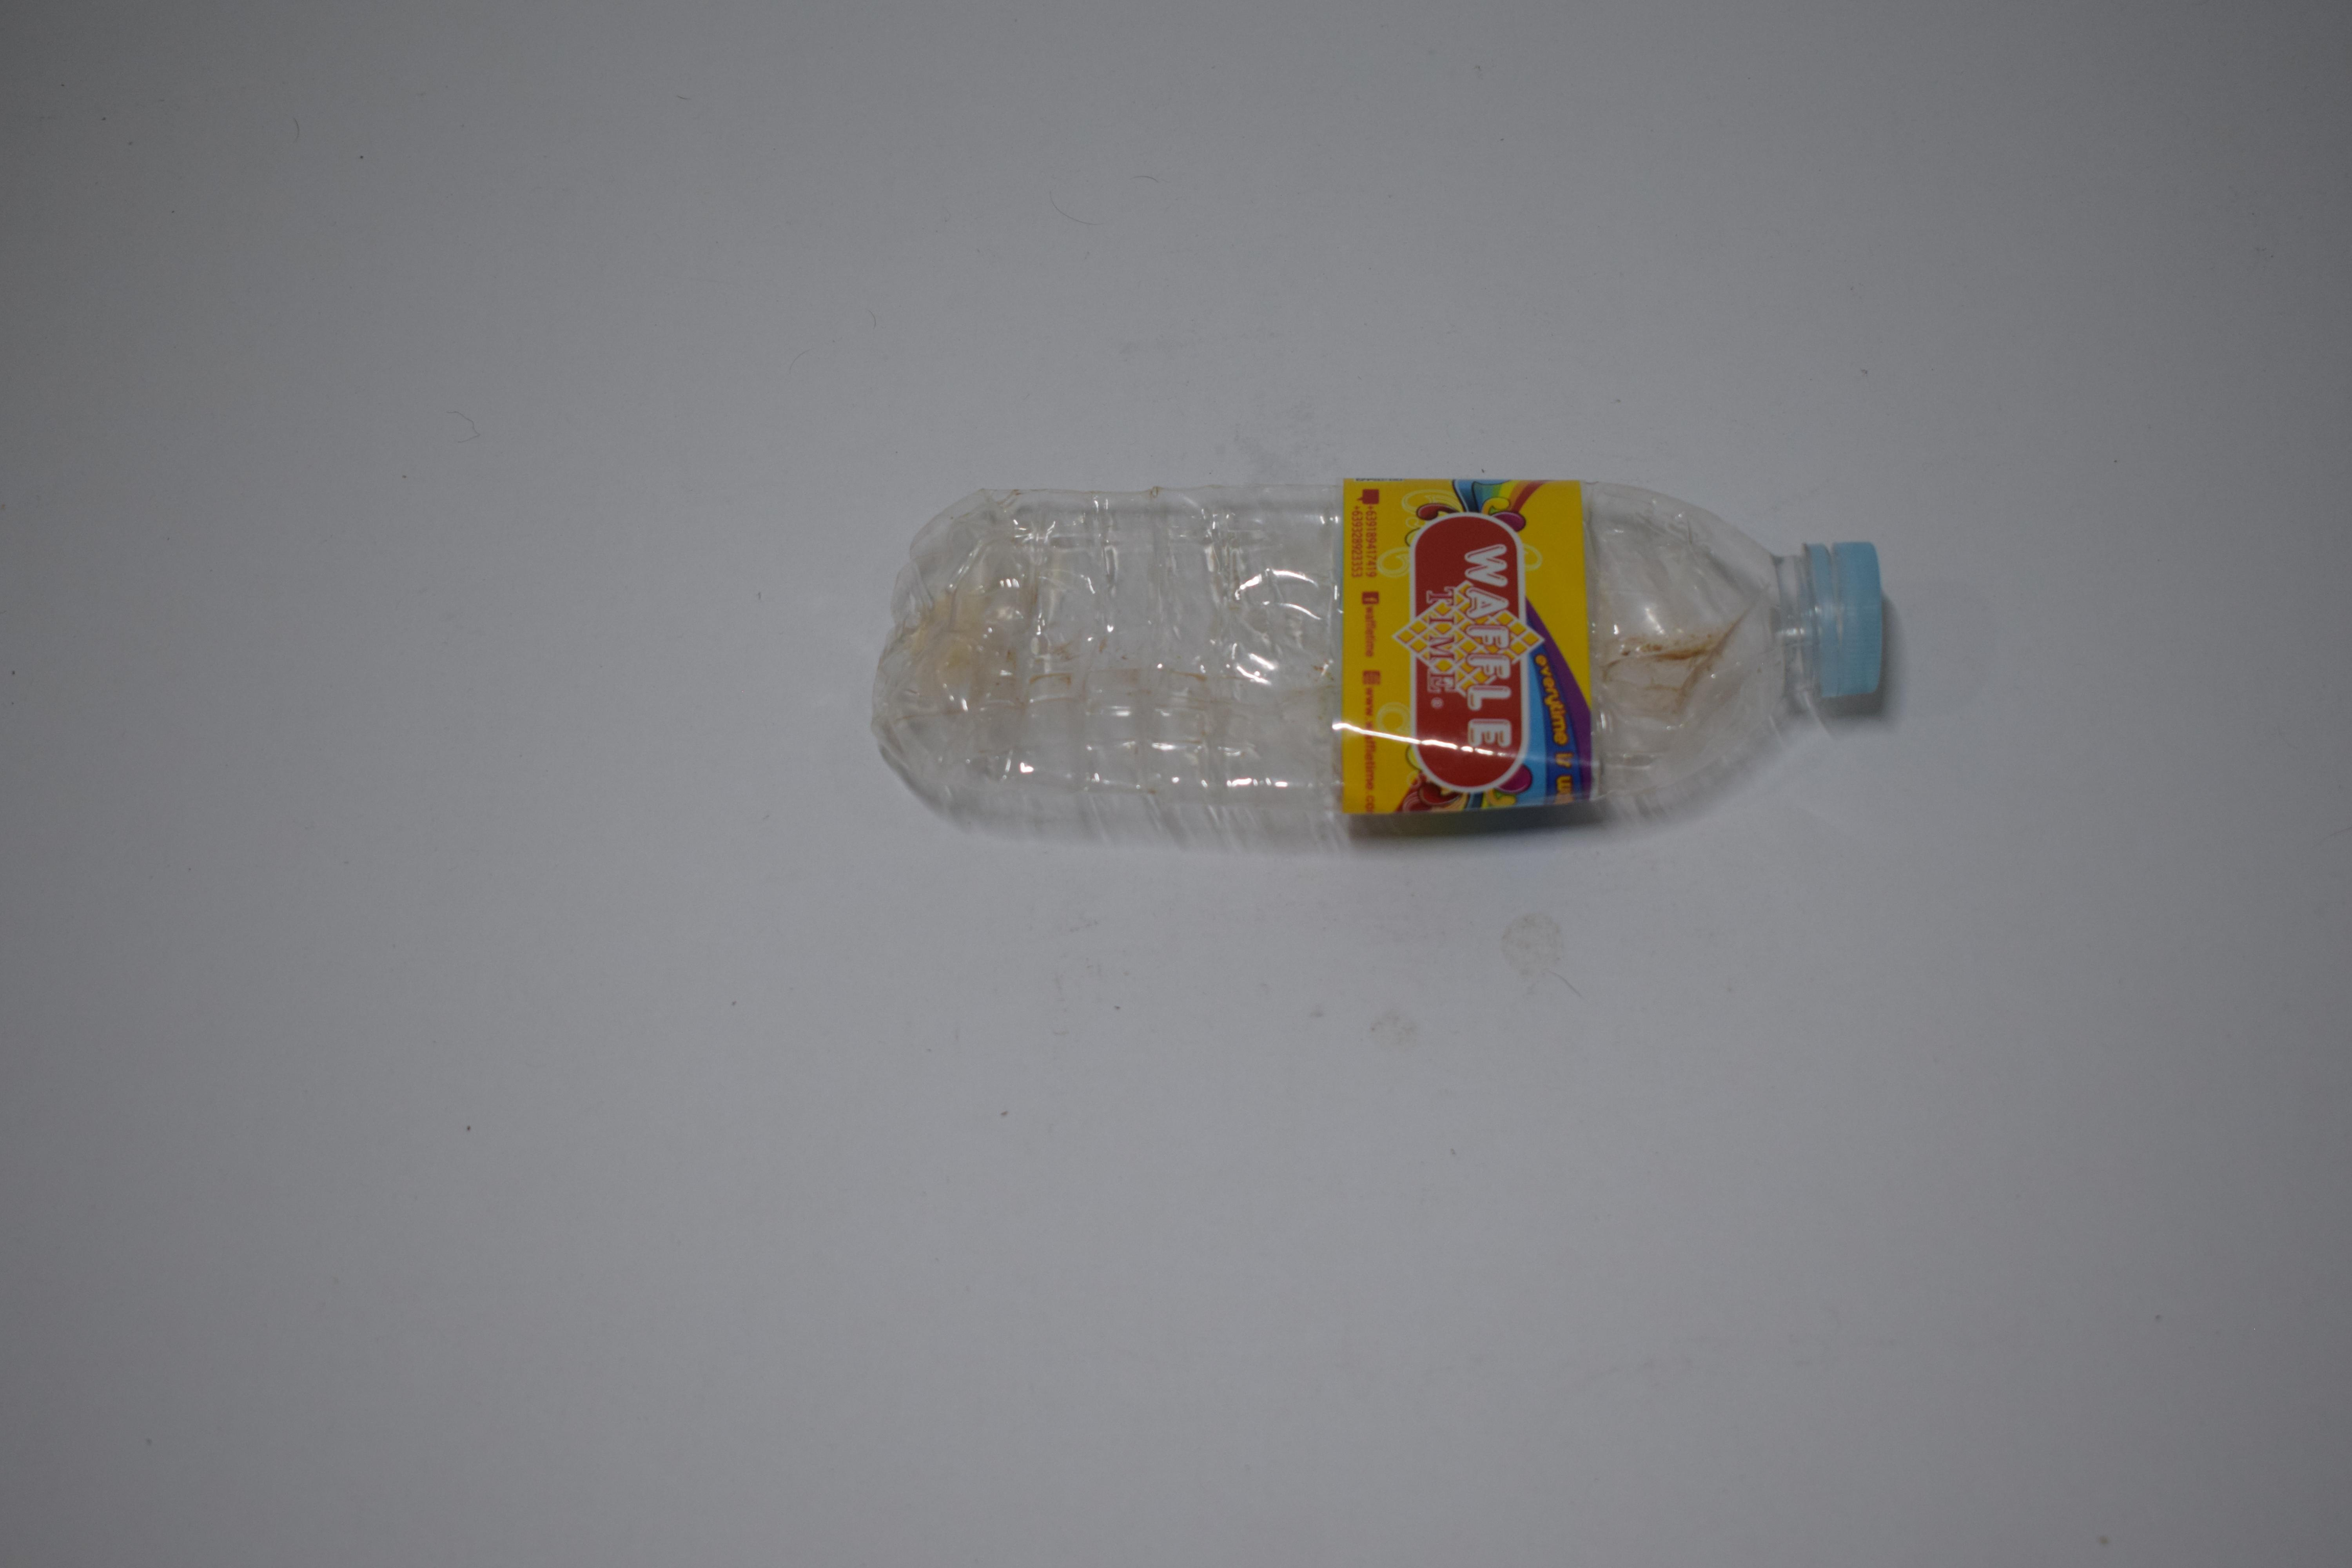bottle: (0, 467, 724, 847)
